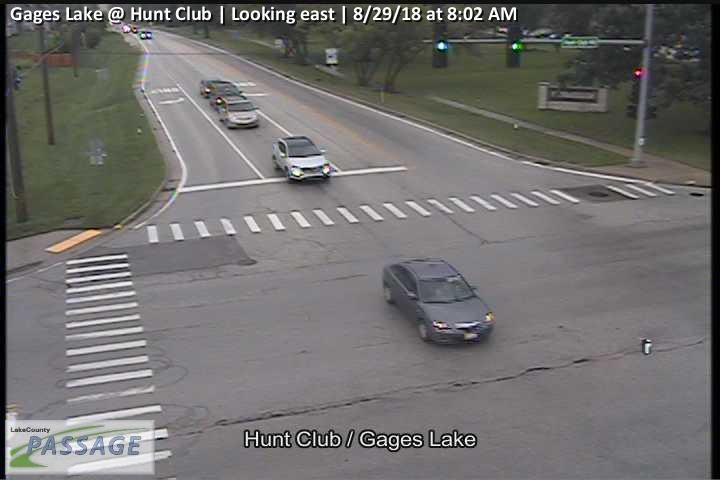SUV: (273, 135, 331, 182)
Sedan: (382, 256, 494, 346), (214, 94, 259, 130), (199, 79, 236, 96)
